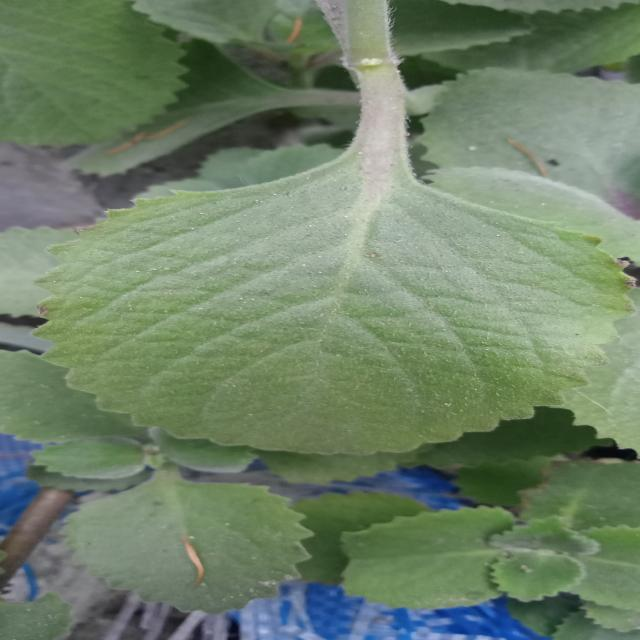Oregano: (32, 128, 633, 478)
